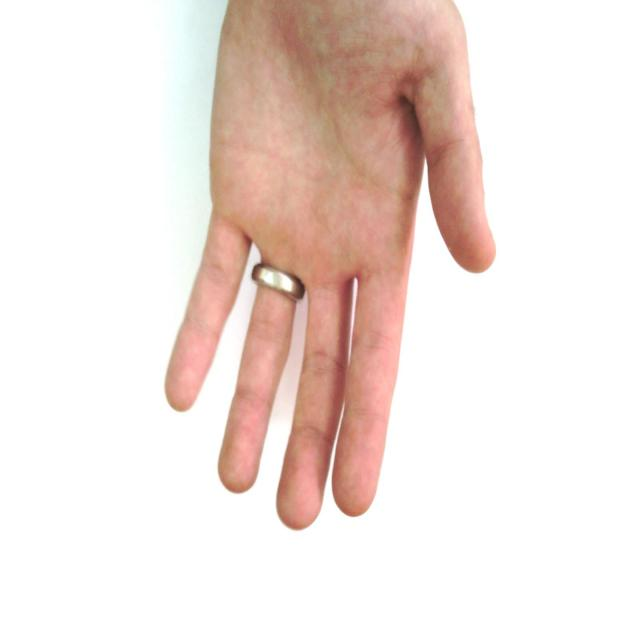others: (157, 1, 526, 536)
